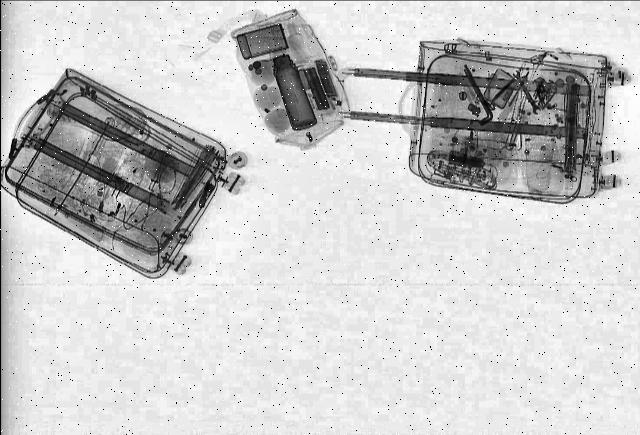Wrench: (505, 70, 543, 114)
